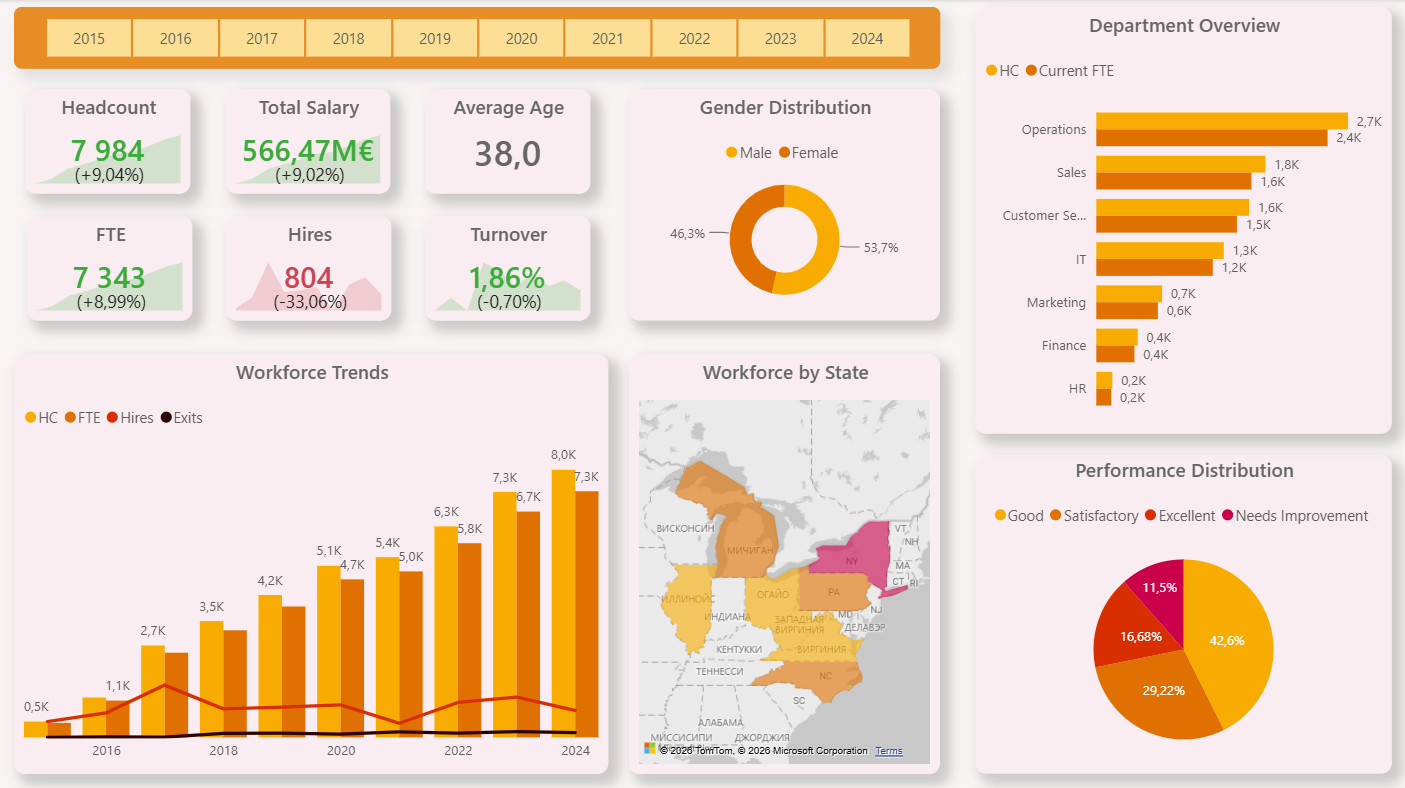

This screenshot's page, from the dashboard's own definition file:
{"tool":"powerbi","page":{"name":"HR KPI","canvas":[1280,720],"ordinal":0},"visuals":[{"type":"slicer","fields":{"Values":["dim_date.Year"]},"box":[12.5,7.3,840.1,56.4],"z":0},{"type":"kpi","title":"FTE","fields":{"Indicator":["_measures.FTE"],"Goal":["_measures.FTE Previous Year"],"TrendLine":["dim_date.Year"]},"box":[24.1,196.5,150,95],"z":1000},{"type":"kpi","title":"Headcount","fields":{"Indicator":["_measures.HC"],"Goal":["_measures.Beginning HC"],"TrendLine":["dim_date.Year"]},"box":[23,81.5,150,95.1],"z":2000},{"type":"kpi","title":"Hires","fields":{"Indicator":["_measures.Hires"],"Goal":["_measures.Hires Previous Year"],"TrendLine":["dim_date.Year"]},"box":[204.8,196.5,150,95],"z":3000},{"type":"pieChart","title":"Performance Distribution","fields":{"Category":["dim_stg_employees.Performance Rating"],"Y":["CountNonNull(dim_stg_employees.Performance Rating)"]},"box":[884,413.8,378.3,289.4],"z":4000},{"type":"lineClusteredColumnComboChart","title":"Workforce Trends","fields":{"Category":["dim_date.Year"],"Y":["_measures.HC","_measures.FTE"],"Y2":["_measures.Hires","_measures.Exits"]},"box":[12.5,321.8,539.2,381.4],"z":5000},{"type":"cardVisual","title":"Average Age","fields":{"Data":["_measures.Avg Age"]},"box":[385.6,81.5,150,95],"z":6000},{"type":"donutChart","title":"Gender Distribution","fields":{"Category":["dim_stg_employees.Gender"],"Y":["_measures.HC"]},"box":[570.5,81.5,282.1,210],"z":7000},{"type":"clusteredBarChart","title":"Department Overview","fields":{"Y":["_measures.HC","_measures.Current FTE"],"Category":["dim_department.Department"]},"box":[884,7.3,378.3,386.6],"z":8000},{"type":"kpi","title":"Total Salary","fields":{"Indicator":["_measures.Total Salary"],"Goal":["_measures.Total Salary Previous Year"],"TrendLine":["dim_date.Year"]},"box":[204.9,81.5,148.8,95],"z":9000},{"type":"filledMap","title":"Workforce by State","fields":{"Category":["dim_stg_employees.State"]},"box":[570.5,321.8,282.1,381.4],"z":10000},{"type":"kpi","title":"Turnover","fields":{"Indicator":["_measures.Turnover"],"TrendLine":["dim_date.Year"],"Goal":["_measures.Turnover Previous Year"]},"box":[385.6,196.5,150,95],"z":11000}]}

Visuals, with their boxes in screenshot pixels (x1, y1, x2, y2), scaled from the page's 1280x720 canvas onto the 1405x788 screenshot:
slicer - dim_date.Year: pyautogui.locateOnScreen(14, 8, 936, 70)
"FTE" kpi: pyautogui.locateOnScreen(26, 215, 191, 319)
"Headcount" kpi: pyautogui.locateOnScreen(25, 89, 190, 193)
"Hires" kpi: pyautogui.locateOnScreen(225, 215, 389, 319)
"Performance Distribution" pieChart: pyautogui.locateOnScreen(970, 453, 1386, 770)
"Workforce Trends" lineClusteredColumnComboChart: pyautogui.locateOnScreen(14, 352, 606, 770)
"Average Age" cardVisual: pyautogui.locateOnScreen(423, 89, 588, 193)
"Gender Distribution" donutChart: pyautogui.locateOnScreen(626, 89, 936, 319)
"Department Overview" clusteredBarChart: pyautogui.locateOnScreen(970, 8, 1386, 431)
"Total Salary" kpi: pyautogui.locateOnScreen(225, 89, 388, 193)
"Workforce by State" filledMap: pyautogui.locateOnScreen(626, 352, 936, 770)
"Turnover" kpi: pyautogui.locateOnScreen(423, 215, 588, 319)
